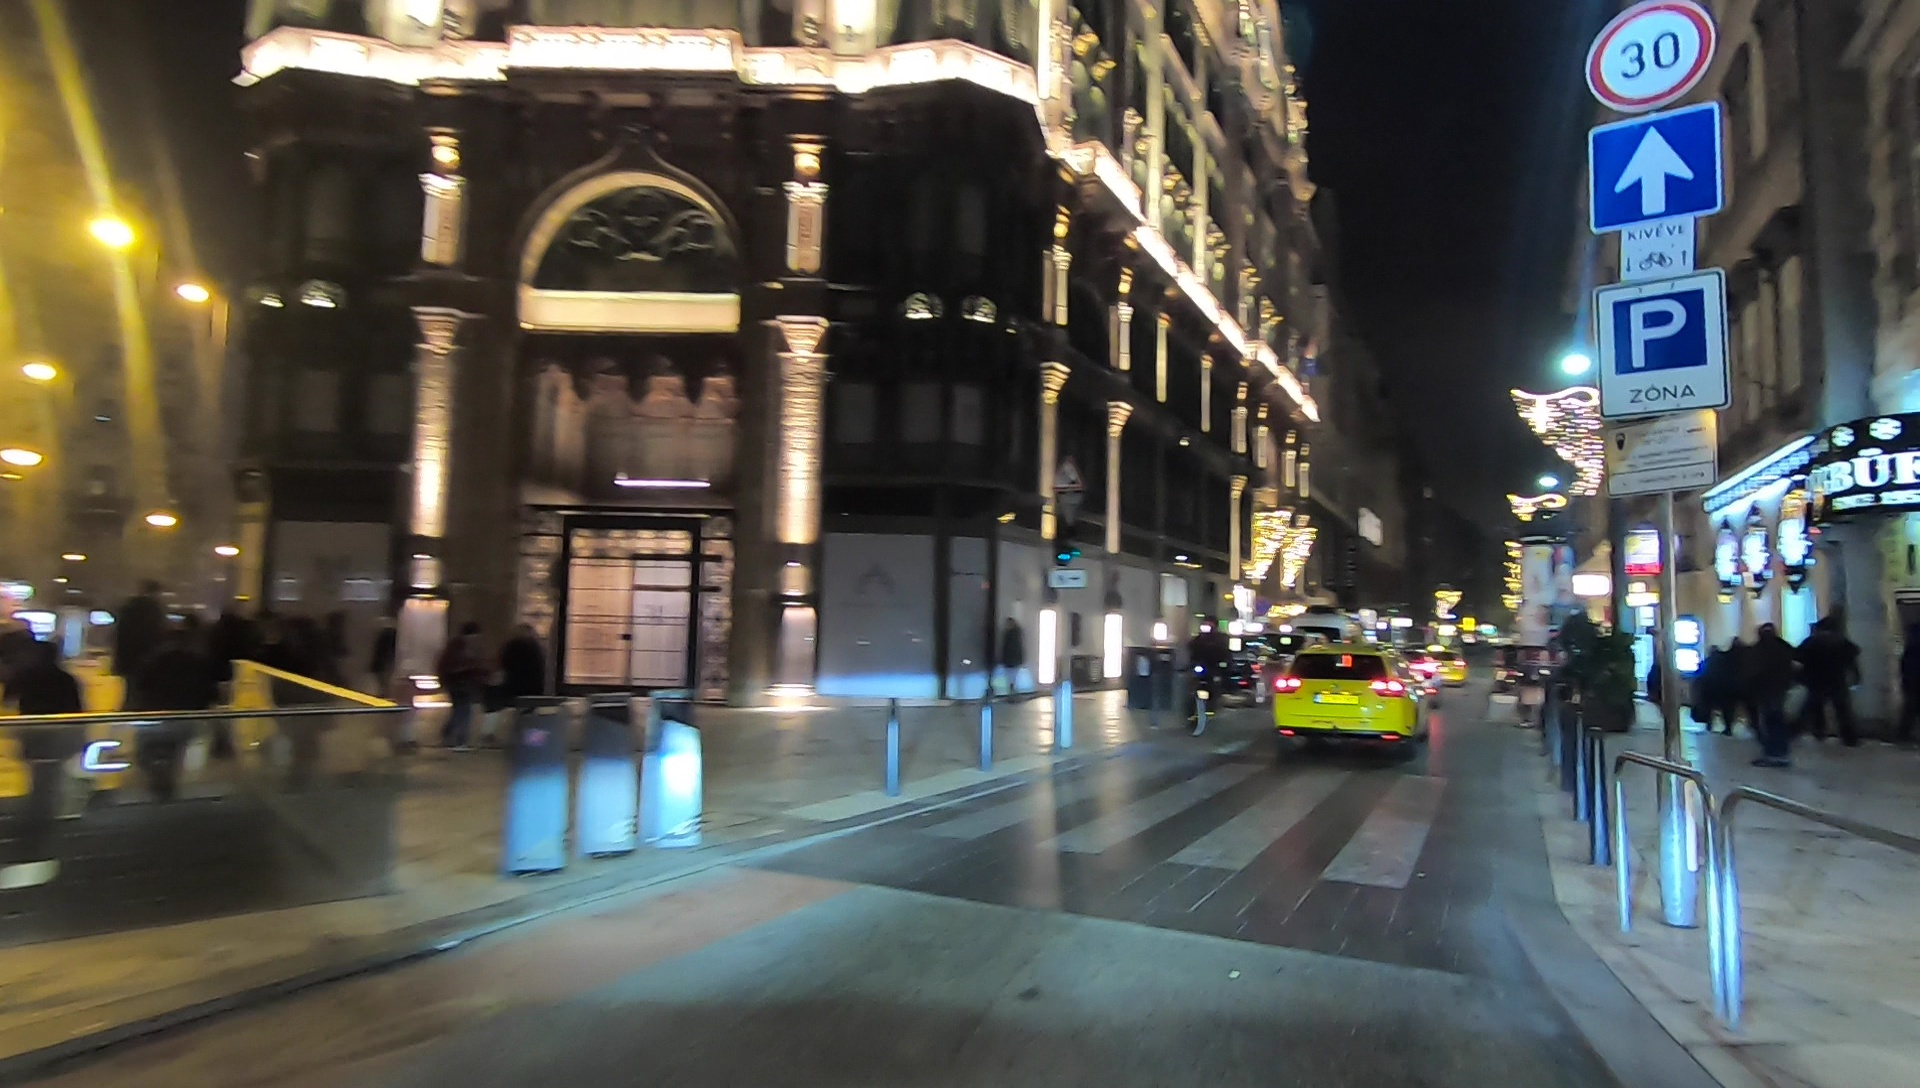person: (1799, 618, 1867, 755), (26, 650, 80, 814), (278, 616, 326, 791), (117, 579, 169, 731), (1747, 619, 1797, 768), (166, 607, 210, 778), (435, 619, 480, 751), (213, 601, 261, 724), (498, 618, 543, 741), (368, 612, 395, 732), (1697, 642, 1731, 737), (999, 618, 1024, 701), (482, 670, 504, 747)
